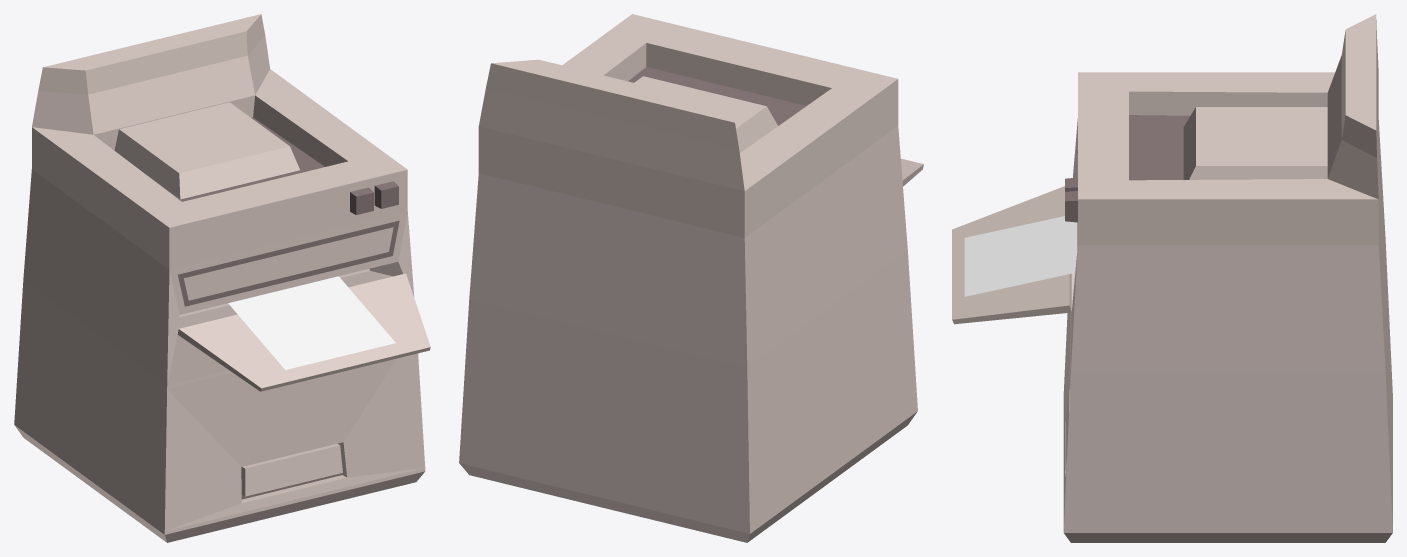
The model's file is copy_machine.fbx.
The picture shows the model from 3 angles, left to right: view 1: azimuth 30°, elevation 25°; view 2: azimuth 150°, elevation 25°; view 3: azimuth 270°, elevation 25°; orthographic projection. The views are drawn at different scales.
Parts seen in each view (by area): view 1: copy_machine; view 2: copy_machine; view 3: copy_machine.
Part boxes in pixels (left/top/right/bottom): copy_machine: left=14, top=14, right=430, bottom=542; copy_machine: left=459, top=14, right=923, bottom=542; copy_machine: left=952, top=14, right=1392, bottom=542.
Size of the model in its own units: 106 by 144 by 143.
